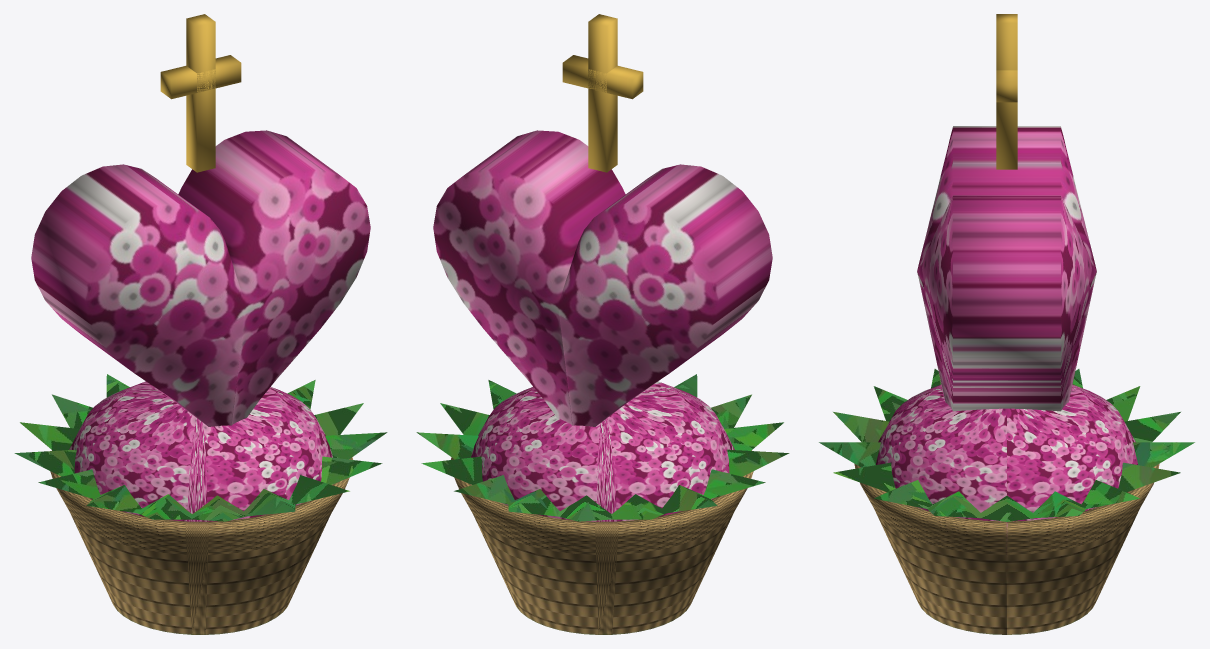
Rendered from china_canasta.obj.
3 views of the same model, side by side, from view 1: azimuth 30°, elevation 25°; view 2: azimuth 150°, elevation 25°; view 3: azimuth 270°, elevation 25° (orthographic).
Parts seen in each view (by area): view 1: china_canasta; view 2: china_canasta; view 3: china_canasta.
Part boxes in pixels (left/top/right/bottom): china_canasta: left=14, top=14, right=387, bottom=634; china_canasta: left=416, top=14, right=789, bottom=634; china_canasta: left=819, top=14, right=1194, bottom=634.
Bounding box in the file's own units: 0.42 × 0.71 × 0.42.
